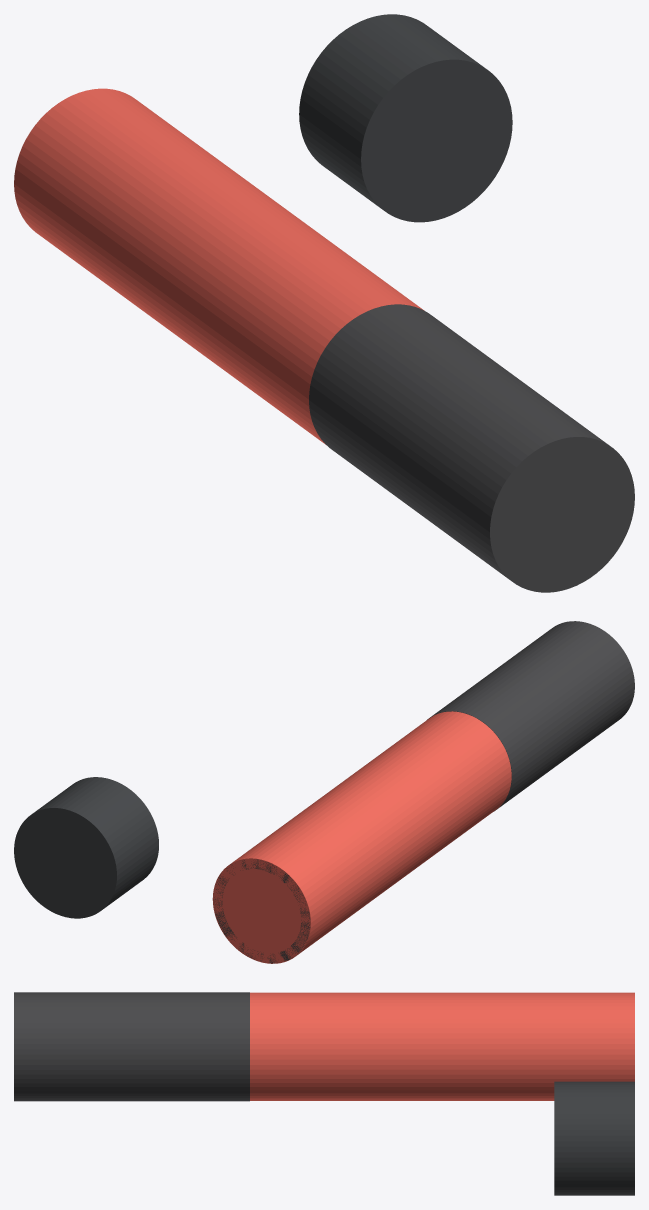
The picture shows the model from 3 angles, top to bottom: view 1: azimuth 30°, elevation 25°; view 2: azimuth 150°, elevation 25°; view 3: azimuth 270°, elevation 25°; orthographic projection. The views are drawn at different scales.
Visible parts, largest first — view 1: px1m_body_0, px1m_body_1, px1m_cap_3; view 2: px1m_body_0, px1m_body_1, px1m_cap_3, px1m_body_2; view 3: px1m_body_0, px1m_body_1, px1m_cap_3.
Part boxes in pixels (bbox=[...]): px1m_body_0: bbox=[14, 88, 424, 445]; px1m_body_1: bbox=[309, 304, 634, 592]; px1m_cap_3: bbox=[299, 14, 512, 222]; px1m_body_0: bbox=[212, 711, 511, 963]; px1m_body_1: bbox=[427, 621, 634, 811]; px1m_cap_3: bbox=[14, 777, 158, 918]; px1m_body_2: bbox=[213, 859, 310, 963]; px1m_body_0: bbox=[250, 992, 634, 1100]; px1m_body_1: bbox=[14, 992, 249, 1101]; px1m_cap_3: bbox=[554, 1081, 634, 1195].
Size of the model in its own units: 0.106 by 0.0367 by 0.2.
